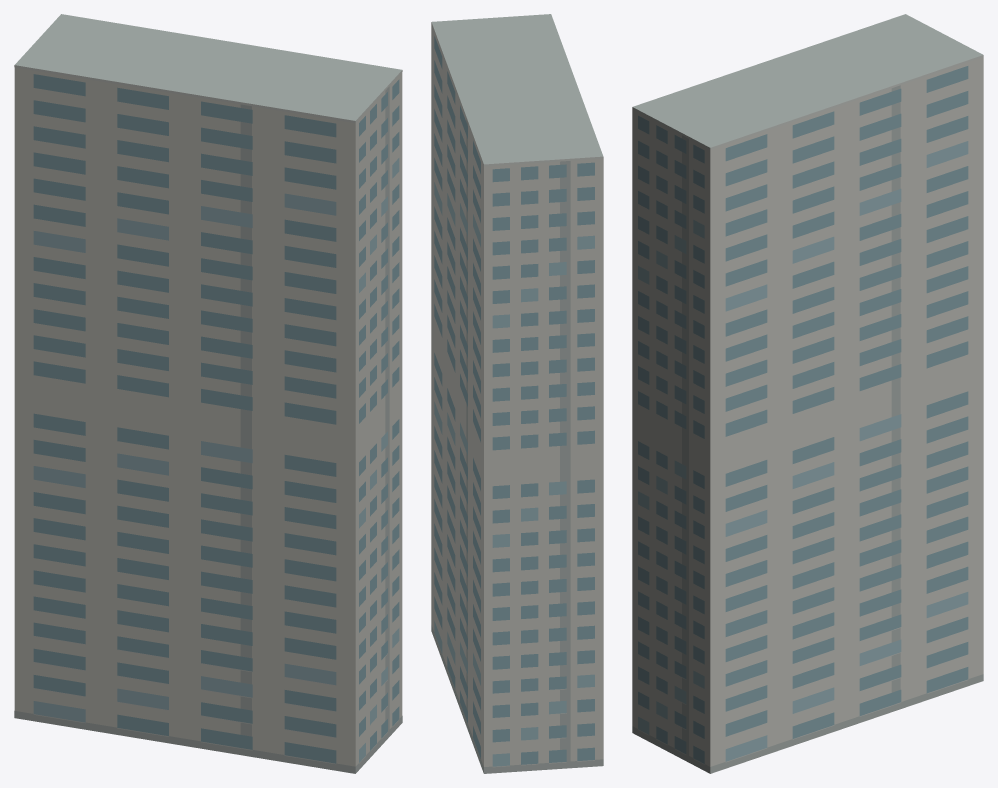
File: residential-8eee17e5-ccdb-487f-93c8-1ff7a6445231.glb
3 views of the same model, side by side, from view 1: azimuth 30°, elevation 25°; view 2: azimuth 150°, elevation 25°; view 3: azimuth 270°, elevation 25° (orthographic). The views are drawn at different scales.
Parts seen in each view (by area): view 1: residential-8eee17e5-ccdb-487f-93c8-1ff7a6445231.tmp; view 2: residential-8eee17e5-ccdb-487f-93c8-1ff7a6445231.tmp; view 3: residential-8eee17e5-ccdb-487f-93c8-1ff7a6445231.tmp.
Part boxes in pixels (bbox=[...]): residential-8eee17e5-ccdb-487f-93c8-1ff7a6445231.tmp: bbox=[14, 14, 402, 773]; residential-8eee17e5-ccdb-487f-93c8-1ff7a6445231.tmp: bbox=[431, 14, 603, 773]; residential-8eee17e5-ccdb-487f-93c8-1ff7a6445231.tmp: bbox=[632, 14, 983, 773].
Size of the model in its own units: 32.57 by 71 by 36.11.
